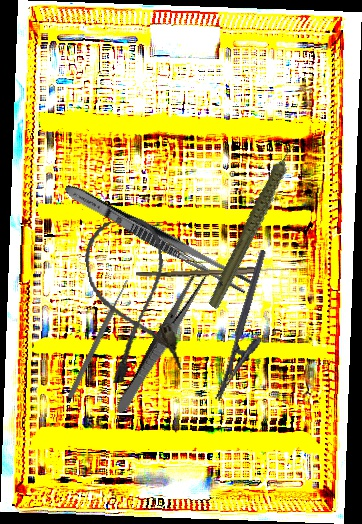Cannula: (79, 213, 184, 385)
Dressing Forceps: (60, 179, 255, 296), (113, 265, 211, 418)
Handpiece: (177, 137, 336, 311)
Needle Holder: (213, 249, 288, 408)
Pusher: (66, 278, 131, 400)
Surgical Spoon: (135, 263, 302, 281)
